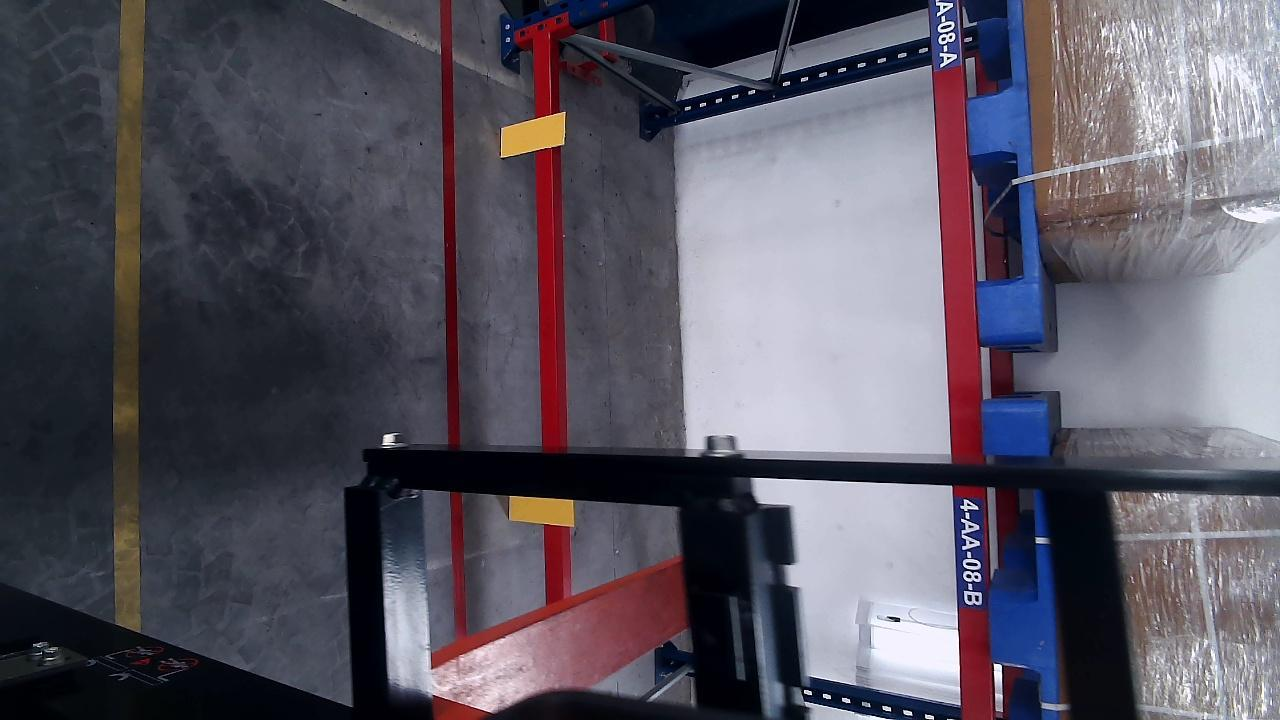h_rack: (929, 1, 991, 719), (531, 34, 563, 600)
orange_strip: (500, 112, 566, 157), (506, 498, 573, 526)
red_line: (438, 0, 470, 642)
small_pallet: (961, 0, 1044, 341)
yellow_line: (115, 1, 146, 633)
